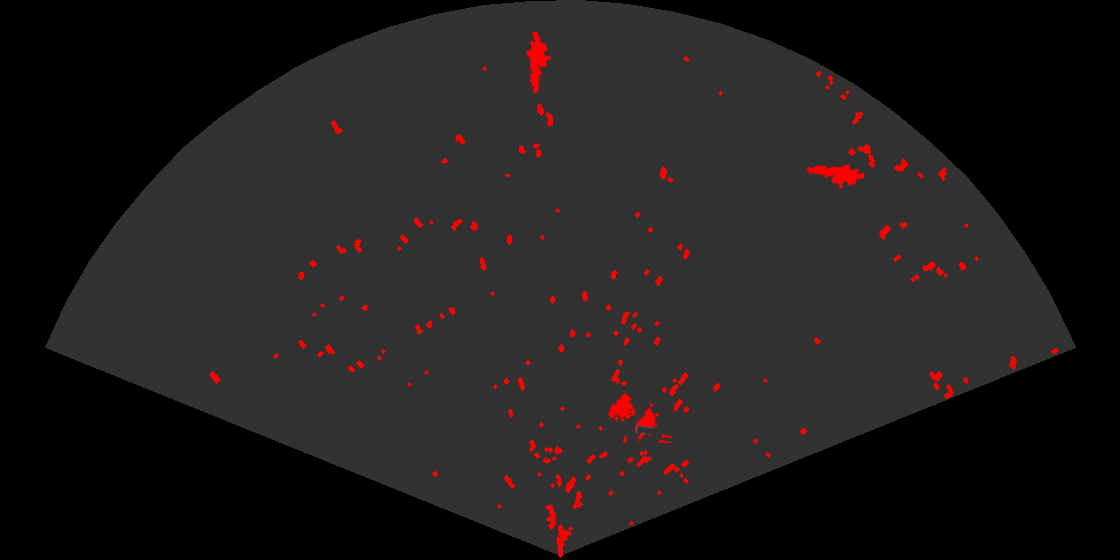cage: (606, 392, 672, 443)
frogman: (525, 32, 553, 95), (804, 162, 864, 191)
